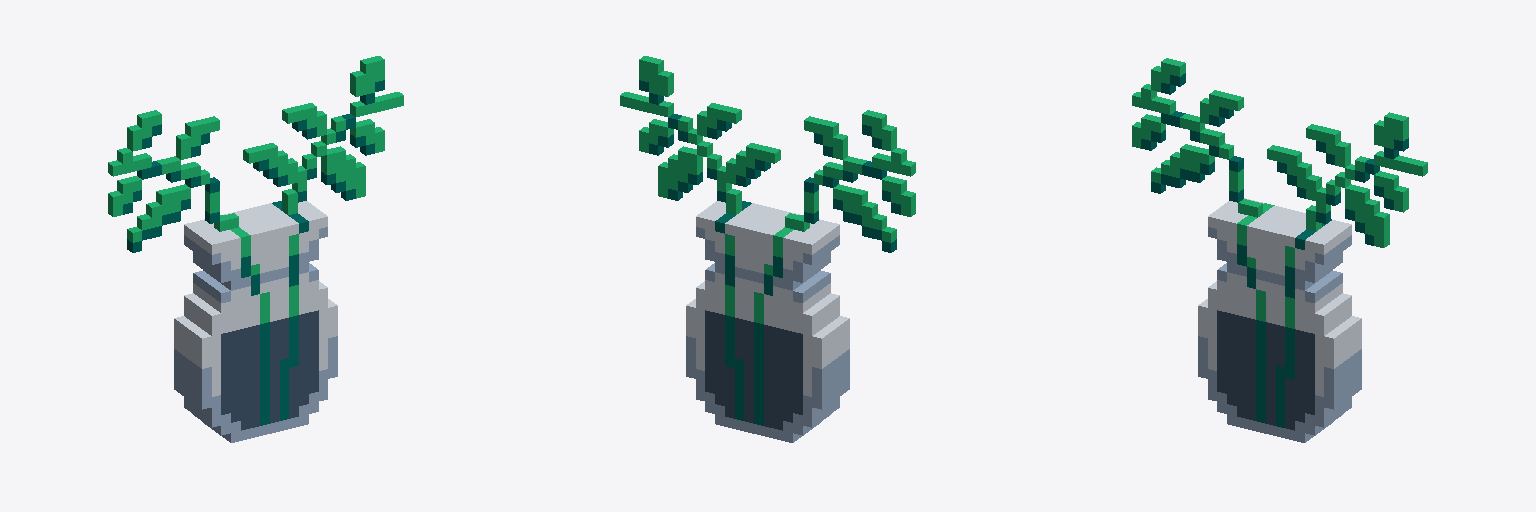
The model's file is PropagatedPlant.obj.
3 views of the same model, side by side, from view 1: azimuth 30°, elevation 25°; view 2: azimuth 150°, elevation 25°; view 3: azimuth 330°, elevation 25° (orthographic).
Bounding box in the file's own units: 30 × 33 × 5.